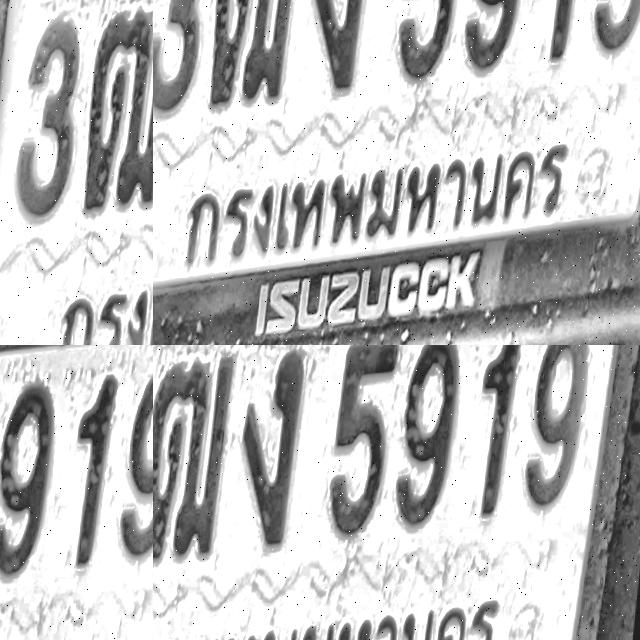license-plate: (153, 345, 640, 640)
